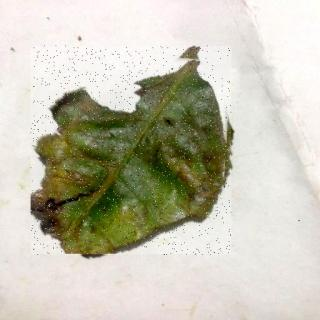Red Leaf Spot: (32, 47, 232, 256)
